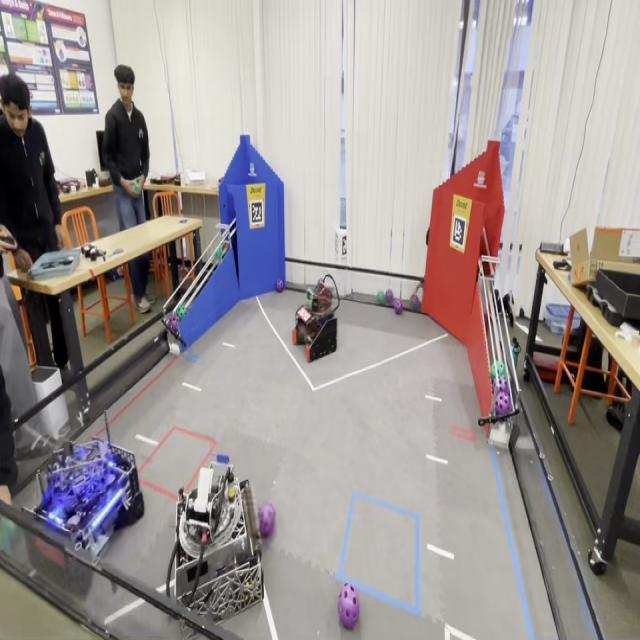artifact_green: (0, 520, 19, 552), (494, 392, 513, 417), (490, 361, 506, 381), (493, 376, 510, 394), (167, 313, 179, 334), (410, 293, 421, 311), (496, 362, 507, 376), (176, 305, 187, 319), (385, 288, 394, 305), (214, 246, 223, 260), (132, 179, 140, 194), (490, 363, 496, 382), (228, 486, 235, 501), (377, 291, 385, 304), (174, 306, 181, 318)
artifact_purple: (338, 584, 359, 629), (258, 503, 275, 538), (495, 392, 512, 417), (494, 376, 509, 393), (168, 312, 179, 333), (410, 294, 420, 310), (385, 288, 393, 304), (395, 299, 403, 315), (276, 279, 284, 292), (316, 279, 323, 290)
